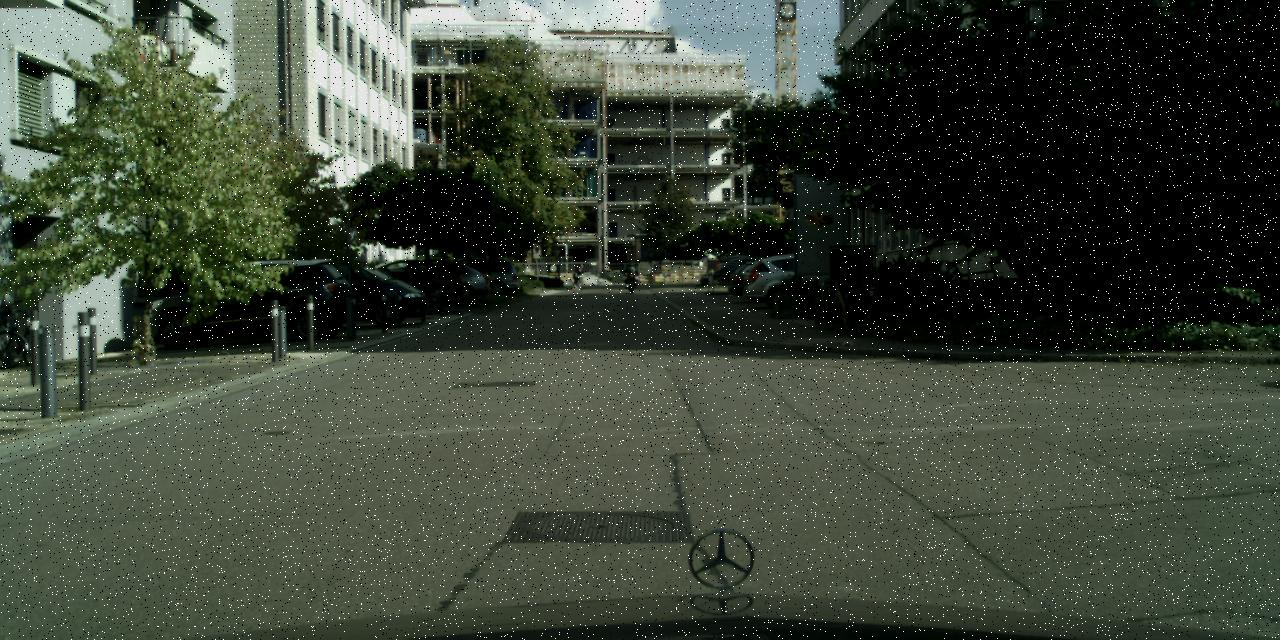ped: (626, 262, 636, 288), (574, 263, 584, 286)
